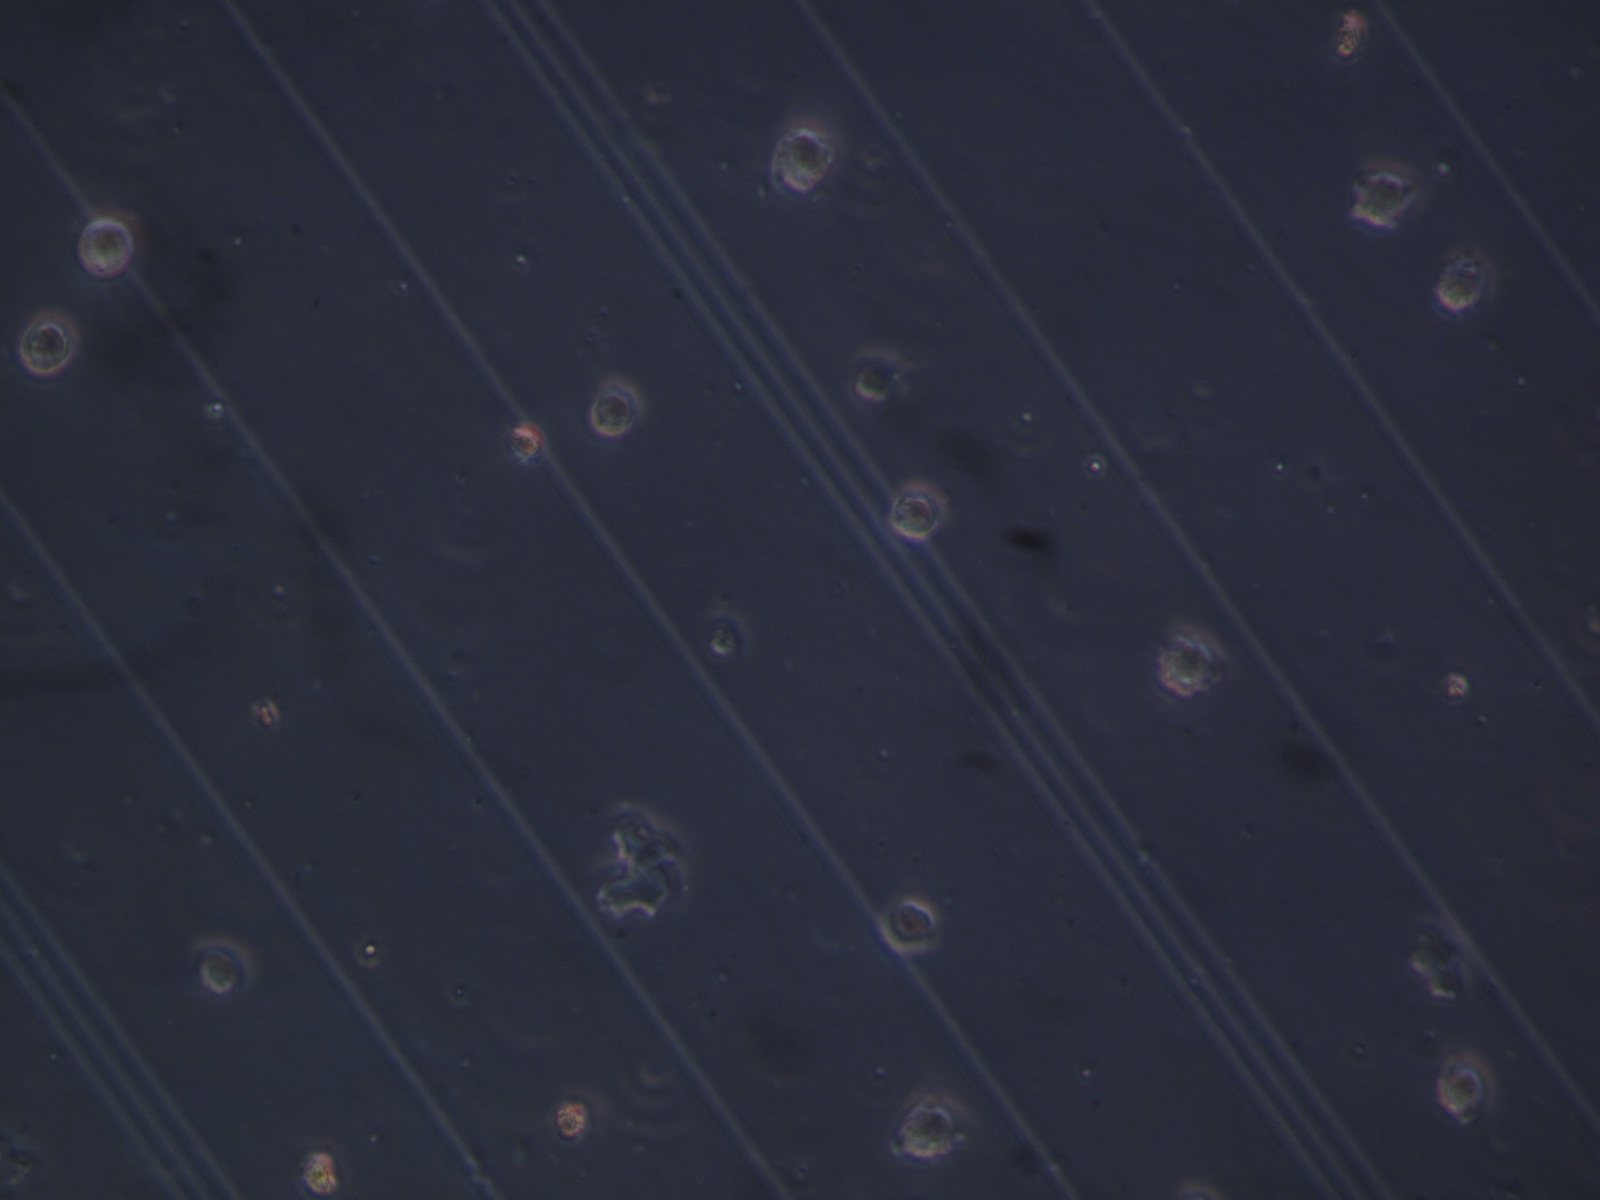hemo: (762, 120, 837, 194), (1351, 158, 1419, 231), (16, 306, 83, 374), (188, 932, 254, 1000), (889, 1100, 960, 1162), (81, 213, 140, 280), (888, 474, 947, 539), (1437, 1053, 1497, 1117), (1157, 632, 1213, 698), (588, 374, 643, 437), (881, 895, 939, 953), (1434, 251, 1487, 311), (854, 359, 897, 405)
